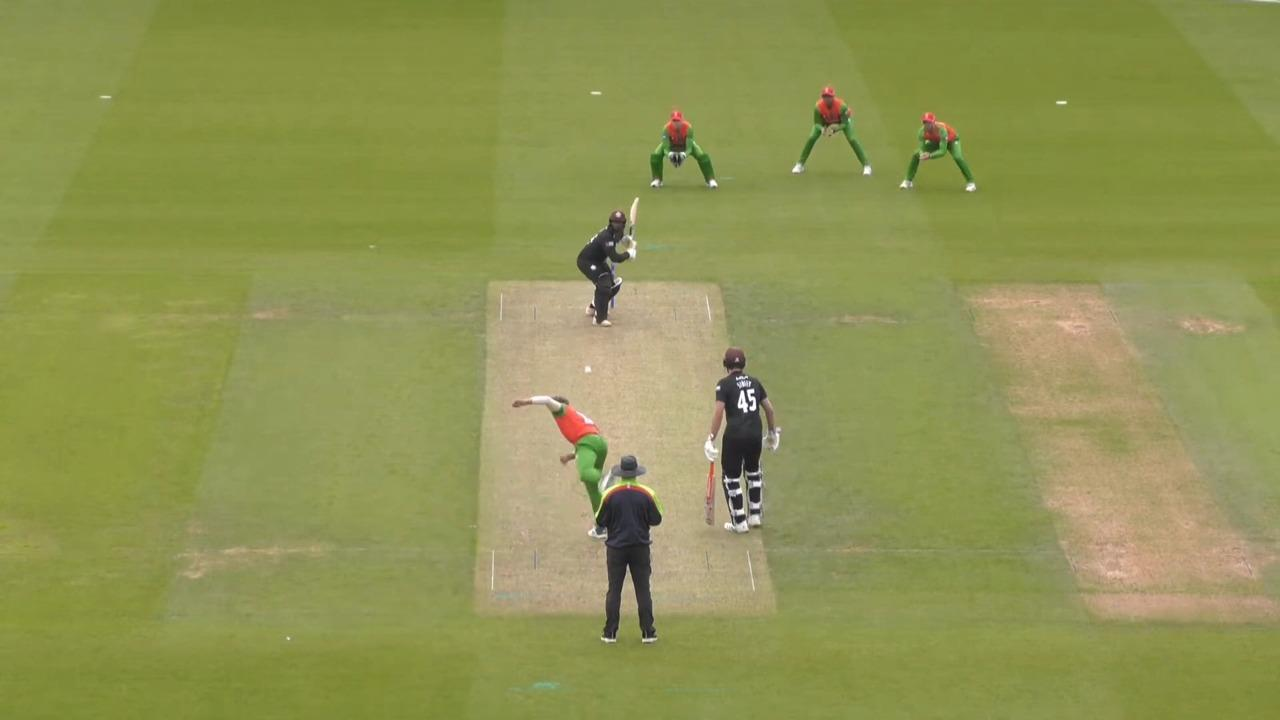sports ball: (584, 366, 592, 372)
